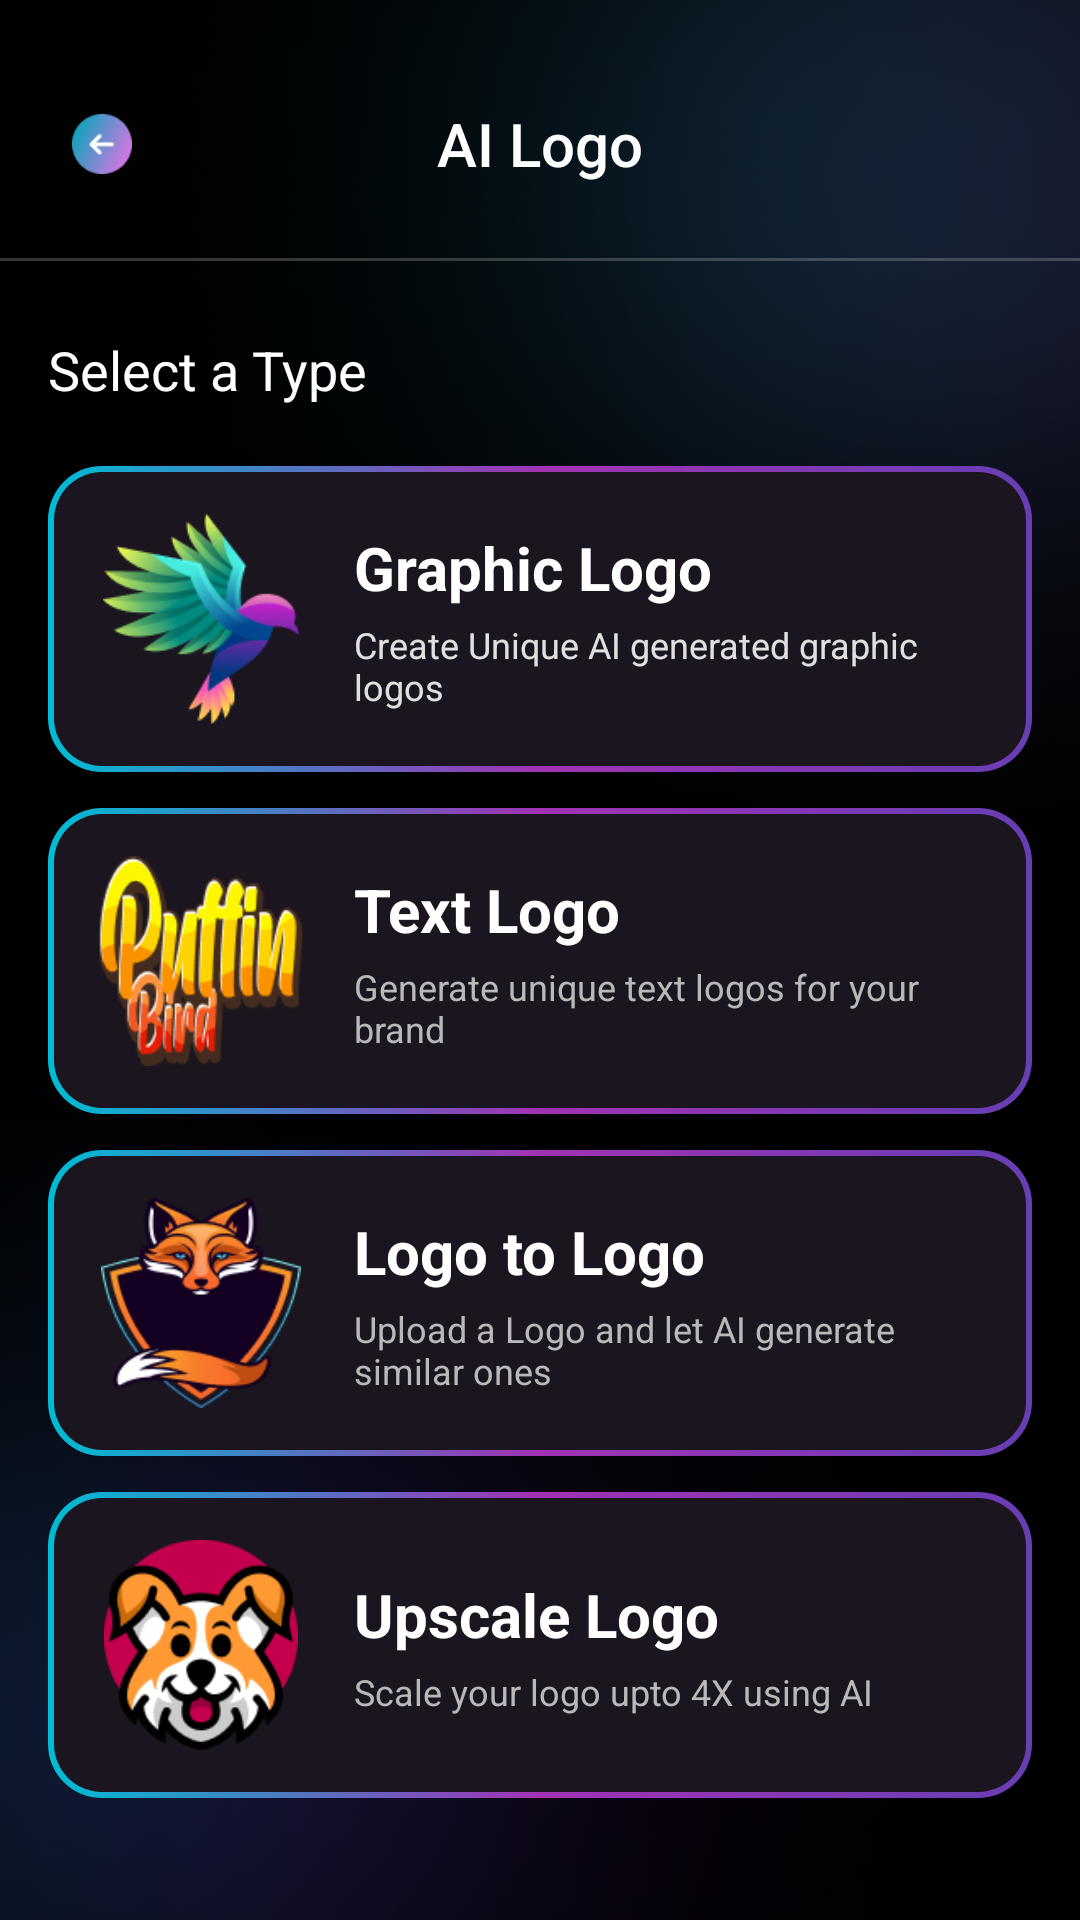

Icon click points for this 1080px x 1920px phone screenshot, format (x=x, y=y):
back arrow: (x=102, y=144)
